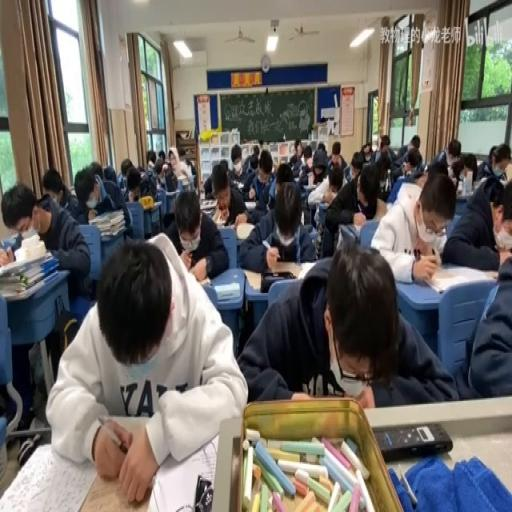calculator: (0, 442, 96, 511), (146, 435, 219, 512), (422, 262, 493, 293), (250, 259, 302, 283), (296, 260, 325, 280), (0, 230, 22, 254), (338, 222, 358, 246), (214, 282, 240, 300), (235, 222, 256, 242), (18, 225, 39, 240), (314, 202, 327, 226), (211, 205, 226, 223), (200, 196, 216, 209), (472, 176, 486, 190), (482, 267, 498, 279), (302, 180, 316, 190), (148, 199, 161, 209), (234, 179, 245, 189), (243, 201, 256, 209), (197, 276, 210, 284), (69, 186, 77, 196), (294, 172, 300, 181)
paper: (48, 230, 246, 502), (238, 239, 453, 407), (3, 179, 92, 300), (372, 171, 454, 283), (238, 176, 316, 270), (444, 168, 510, 273), (161, 185, 226, 281), (323, 160, 381, 254), (72, 163, 130, 239), (390, 145, 427, 191), (226, 145, 252, 192), (426, 138, 459, 175), (478, 144, 510, 182), (306, 148, 329, 183), (42, 168, 64, 202), (372, 134, 394, 166), (365, 195, 388, 225), (458, 152, 477, 184), (329, 141, 347, 172), (180, 148, 196, 182), (138, 169, 156, 199), (203, 166, 218, 198), (274, 162, 294, 184), (289, 137, 304, 165), (258, 150, 272, 180), (350, 151, 364, 176), (162, 171, 176, 192), (90, 160, 104, 180), (102, 164, 116, 184), (329, 171, 342, 192), (120, 158, 134, 176), (153, 159, 164, 178), (408, 135, 419, 151), (378, 164, 389, 180), (116, 172, 126, 189), (146, 148, 155, 166), (219, 158, 229, 173), (362, 148, 372, 161), (251, 142, 260, 156), (232, 156, 241, 170), (316, 142, 325, 154), (157, 149, 164, 161), (304, 150, 310, 164), (374, 138, 380, 149), (272, 160, 278, 170)
person: (374, 422, 451, 461)
